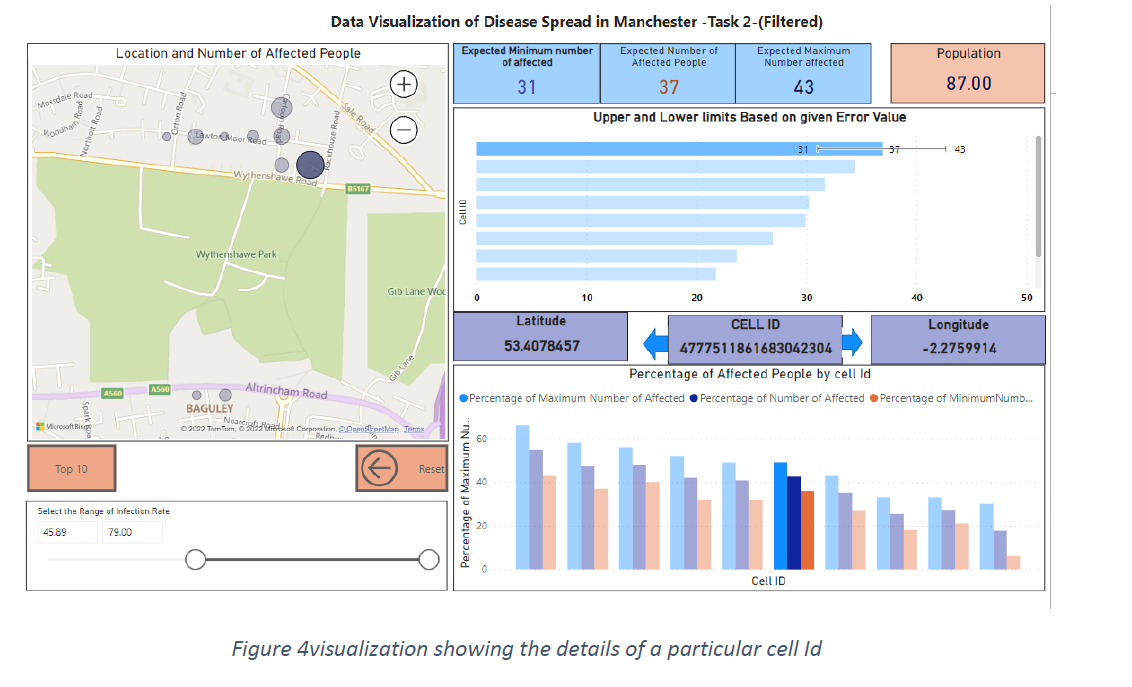

The page's visual inventory and layout, read from the dashboard file:
{"tool":"powerbi","page":{"name":"part 2","canvas":[1280,720],"ordinal":1},"visuals":[{"type":"slicer","fields":{"Values":["CSC8626_Data_Wrangled.u"]},"box":[27.5,609.8,515,109.9],"z":0},{"type":"map","title":"Location and Number of Affected People","fields":{"X":["CSC8626_Data_Wrangled.x"],"Y":["CSC8626_Data_Wrangled.y"],"Size":["Avg(CSC8626_Data_Wrangled.u)"]},"box":[28.9,50.4,514.8,486.6],"z":1000},{"type":"card","title":"Expected Number of Affected People","fields":{"Values":["Avg(CSC8626_Data_Wrangled.average_u)"]},"box":[729.2,50.4,165.9,73.7],"z":2000},{"type":"card","title":"Population","fields":{"Values":["Avg(CSC8626_Data_Wrangled.population)"]},"box":[1085,50.8,188.2,72.8],"z":3000},{"type":"card","title":"Expected Minimum number of affected","fields":{"Values":["Min(CSC8626_Data_Wrangled.min_val)"]},"box":[550.4,50.4,178.8,73.7],"z":4000},{"type":"card","title":"Expected Maximum Number affected ","fields":{"Values":["Min(CSC8626_Data_Wrangled.max_val)"]},"box":[895.1,50.4,166.5,73.7],"z":5000},{"type":"clusteredColumnChart","title":"Percentage of Affected People by cell Id","fields":{"Category":["CSC8626_Data_Wrangled.cell_id"],"Y":["Avg(CSC8626_Data_Wrangled.Percentage of Maximum Number of Affected)","Avg(CSC8626_Data_Wrangled.Percentage of Number of Affected)","Avg(CSC8626_Data_Wrangled.Percentage of MinimumNumber of Affected)"]},"box":[550.3,443,723.1,276.8],"z":6000},{"type":"card","title":"CELL ID","fields":{"Values":["Min(CSC8626_Data_Wrangled.cell_id)"]},"box":[812.1,382.8,213.3,60.2],"z":7000},{"type":"clusteredBarChart","title":"Upper and Lower limits Based on given Error Value ","fields":{"Category":["CSC8626_Data_Wrangled.cell_id"],"Y":["Avg(CSC8626_Data_Wrangled.average_u)"]},"box":[550.3,128.9,723.1,249.3],"z":8000},{"type":"card","title":"Latitude","fields":{"Values":["Avg(CSC8626_Data_Wrangled.y)"]},"box":[550.3,378.2,213.3,60.2],"z":9000},{"type":"card","title":"Longitude","fields":{"Values":["Avg(CSC8626_Data_Wrangled.x)"]},"box":[1060.1,382.8,213.3,60.2],"z":10000},{"type":"shape","box":[781.3,397.2,30.8,39.9],"z":11000},{"type":"shape","box":[1025.4,397.2,25.5,36],"z":12000},{"type":"textbox","box":[389.5,5.5,654.9,38.7],"z":13000},{"type":"actionButton","title":"Top 10","box":[28.8,541.1,108.5,57.7],"z":14000},{"type":"actionButton","box":[431.2,541.1,112.6,57.7],"z":15000}]}

Visuals, with their boxes on the page's 1280x720 design canvas (x1, y1, x2, y2). These are canvas units, not pixel positions in the 1132x687 screenshot, which may show the page scaled, cropped or inside an application window:
slicer - CSC8626_Data_Wrangled.u: (28, 610, 542, 720)
"Location and Number of Affected People" map: (29, 50, 544, 537)
"Expected Number of Affected People" card: (729, 50, 895, 124)
"Population" card: (1085, 51, 1273, 124)
"Expected Minimum number of affected" card: (550, 50, 729, 124)
"Expected Maximum Number affected " card: (895, 50, 1062, 124)
"Percentage of Affected People by cell Id" clusteredColumnChart: (550, 443, 1273, 720)
"CELL ID" card: (812, 383, 1025, 443)
"Upper and Lower limits Based on given Error Value " clusteredBarChart: (550, 129, 1273, 378)
"Latitude" card: (550, 378, 764, 438)
"Longitude" card: (1060, 383, 1273, 443)
shape: (781, 397, 812, 437)
shape: (1025, 397, 1051, 433)
textbox: (390, 6, 1044, 44)
"Top 10" actionButton: (29, 541, 137, 599)
actionButton: (431, 541, 544, 599)
